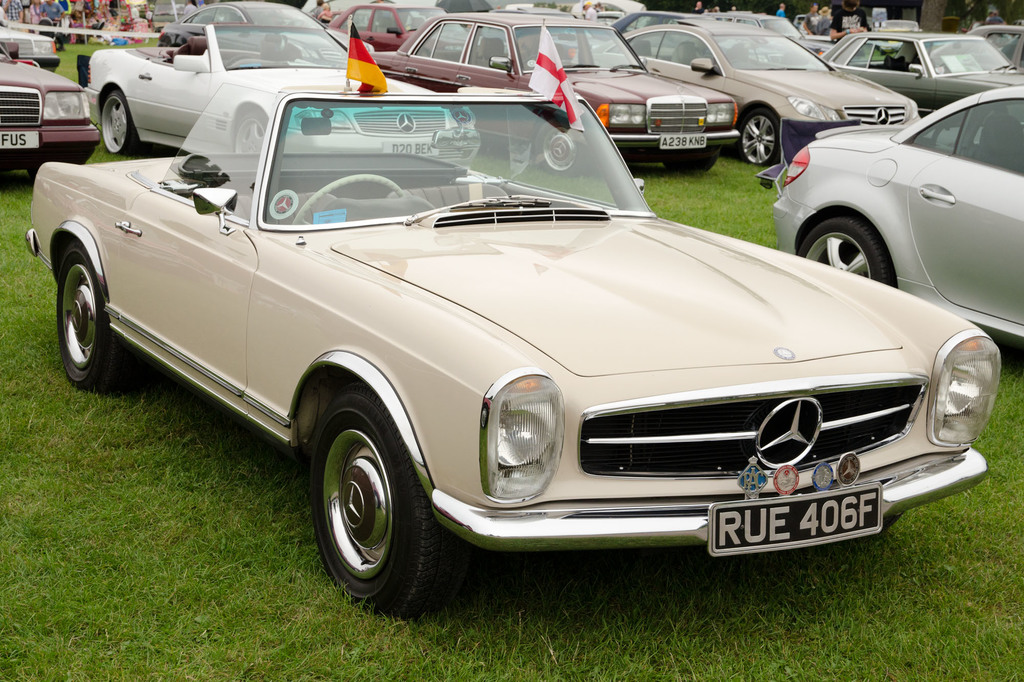Car: (67, 68, 992, 616), (490, 0, 918, 163), (771, 84, 1023, 341), (368, 7, 734, 176), (82, 23, 480, 152), (821, 29, 1023, 115), (0, 46, 101, 180), (157, 0, 376, 49), (330, 0, 448, 50), (0, 17, 61, 69), (965, 23, 1023, 72)
